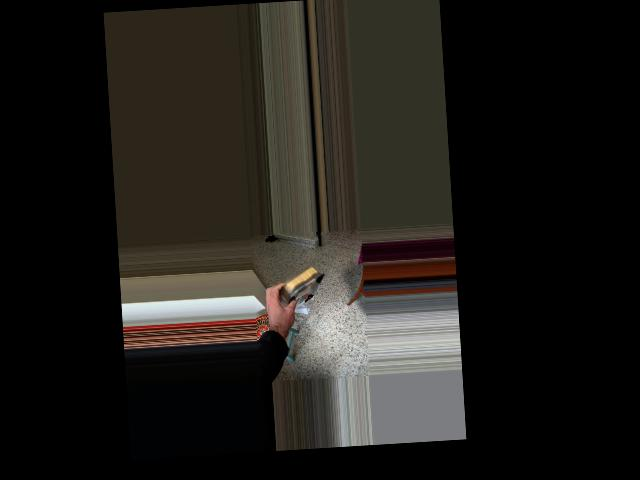cheese: (256, 256, 335, 321)
